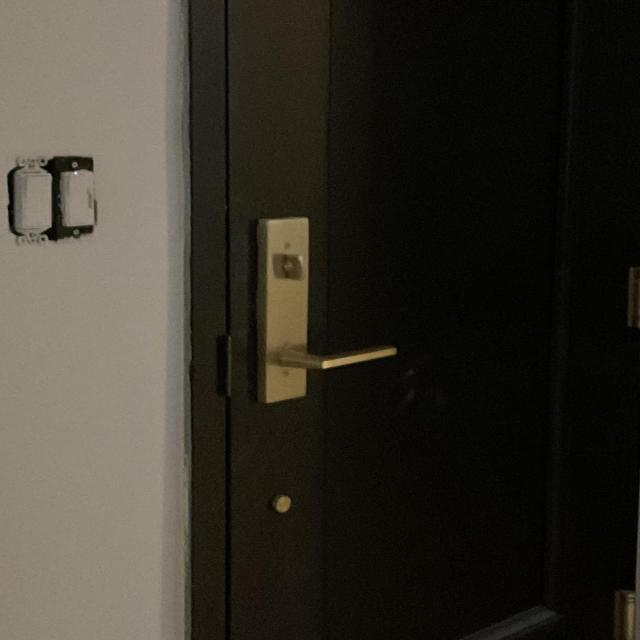door_handle: (260, 324, 410, 385)
